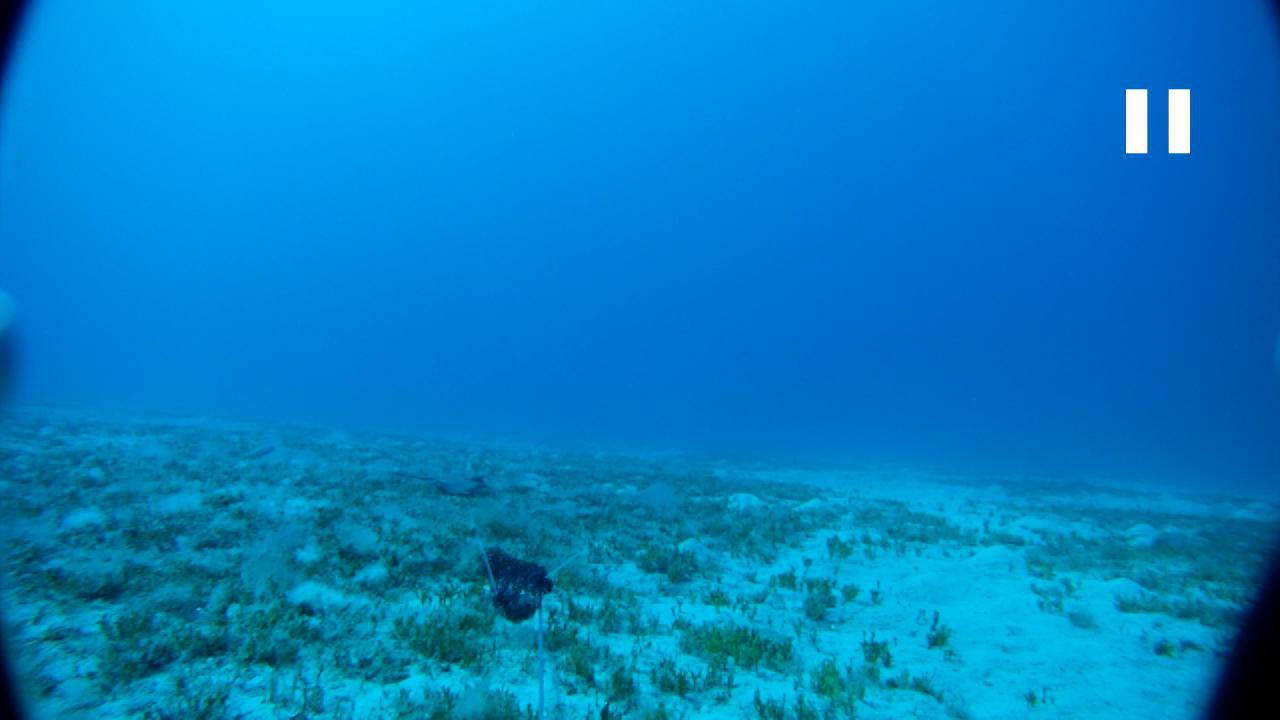dasyatis: (390, 469, 484, 498)
